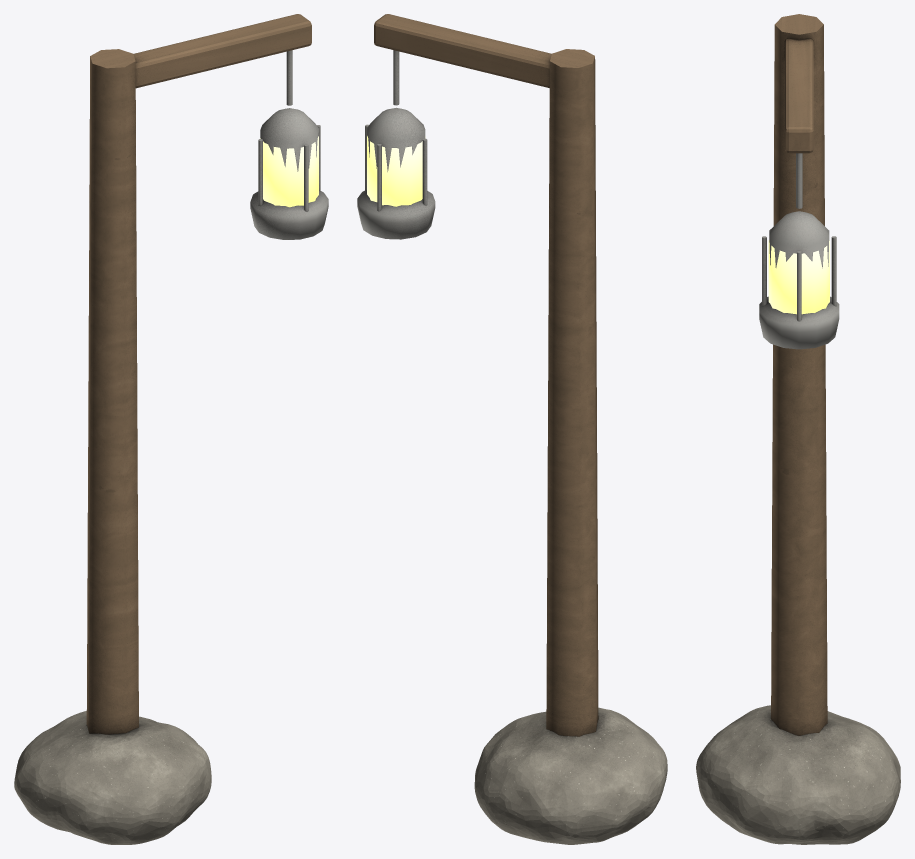
The model's file is dg_lanterna_mina.glb.
3 renders of one model, left to right at view 1: azimuth 30°, elevation 25°; view 2: azimuth 150°, elevation 25°; view 3: azimuth 270°, elevation 25°, orthographic. The views are drawn at different scales.
Parts seen in each view (by area): view 1: dg_lanterna_mina_tronco, vidro; view 2: dg_lanterna_mina_tronco, vidro; view 3: dg_lanterna_mina_tronco, vidro.
Boxes of the visible parts, left/top/right/bottom form: dg_lanterna_mina_tronco: left=14, top=14, right=328, bottom=844; vidro: left=260, top=136, right=318, bottom=207; dg_lanterna_mina_tronco: left=357, top=14, right=667, bottom=844; vidro: left=367, top=136, right=425, bottom=206; dg_lanterna_mina_tronco: left=696, top=14, right=900, bottom=844; vidro: left=768, top=240, right=829, bottom=314.
Bounding box in the file's own units: 0.8697 × 2.17 × 0.4996.
Materials: 2 (1 with a texture image).
